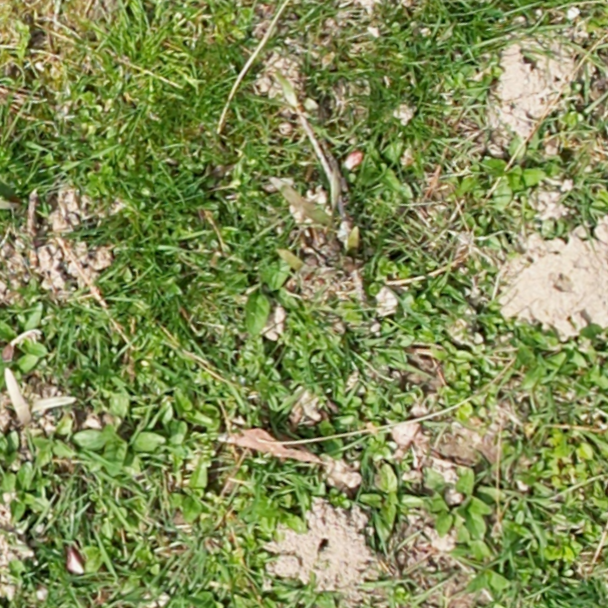nest: (503, 221, 608, 337), (260, 502, 374, 592), (494, 39, 589, 145)
